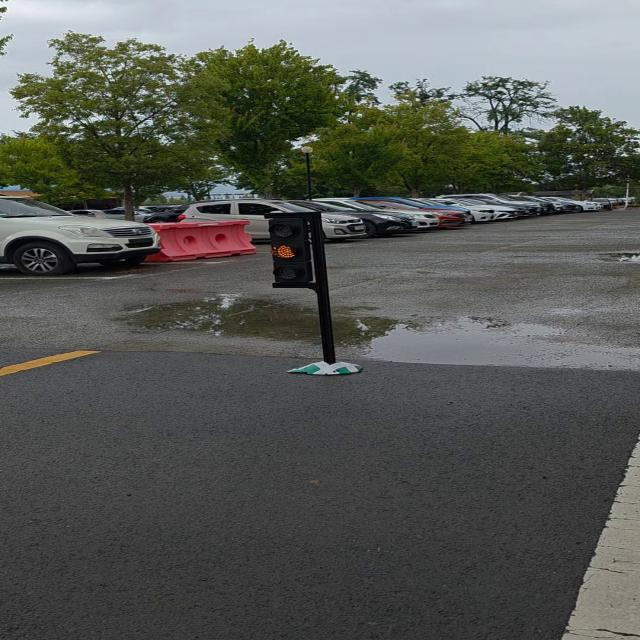yellow: (265, 217, 317, 289)
